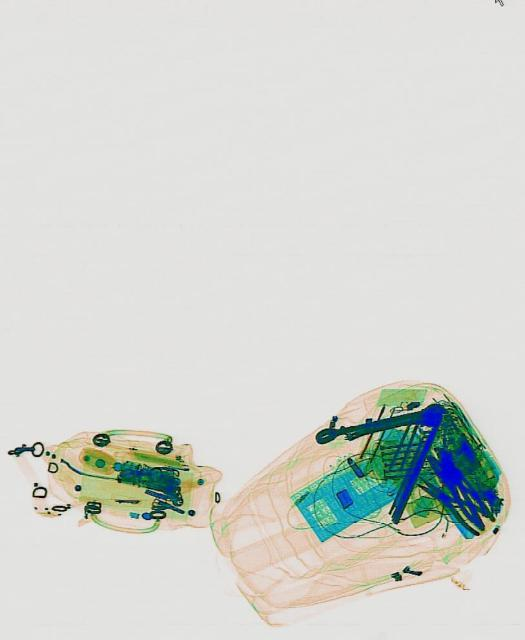Pliers: (420, 445, 495, 531), (409, 466, 492, 538)
Wrench: (312, 400, 447, 450)
